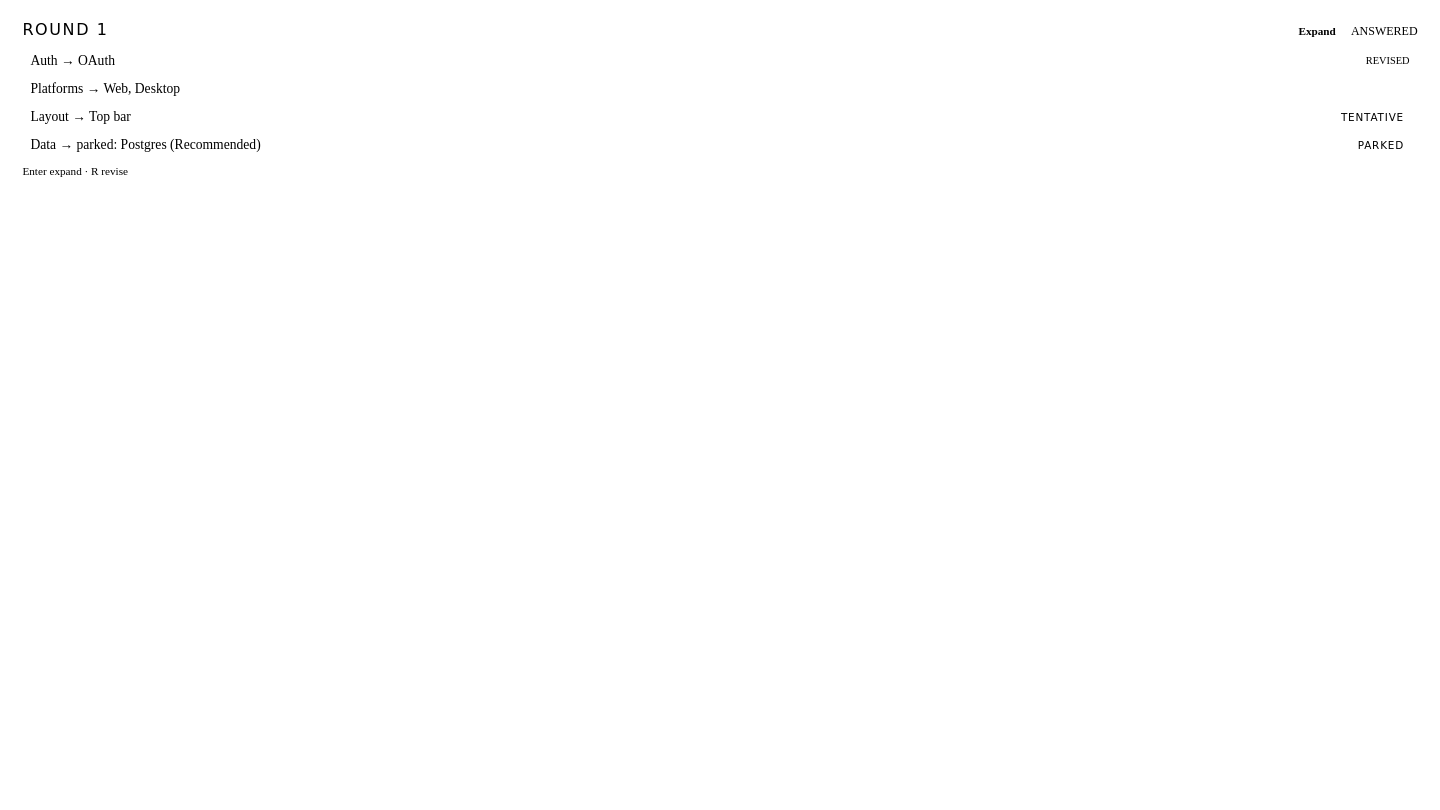
Test: QuestionRoundCard answer chips (D25) › clicking a chip expands the full card on that question, and R revises it
The width and height of the screenshot is (1440, 810).
Click the button "Layout → Top bar TENTATIVE". click: (50, 116)
box: [22,105,1418,129]
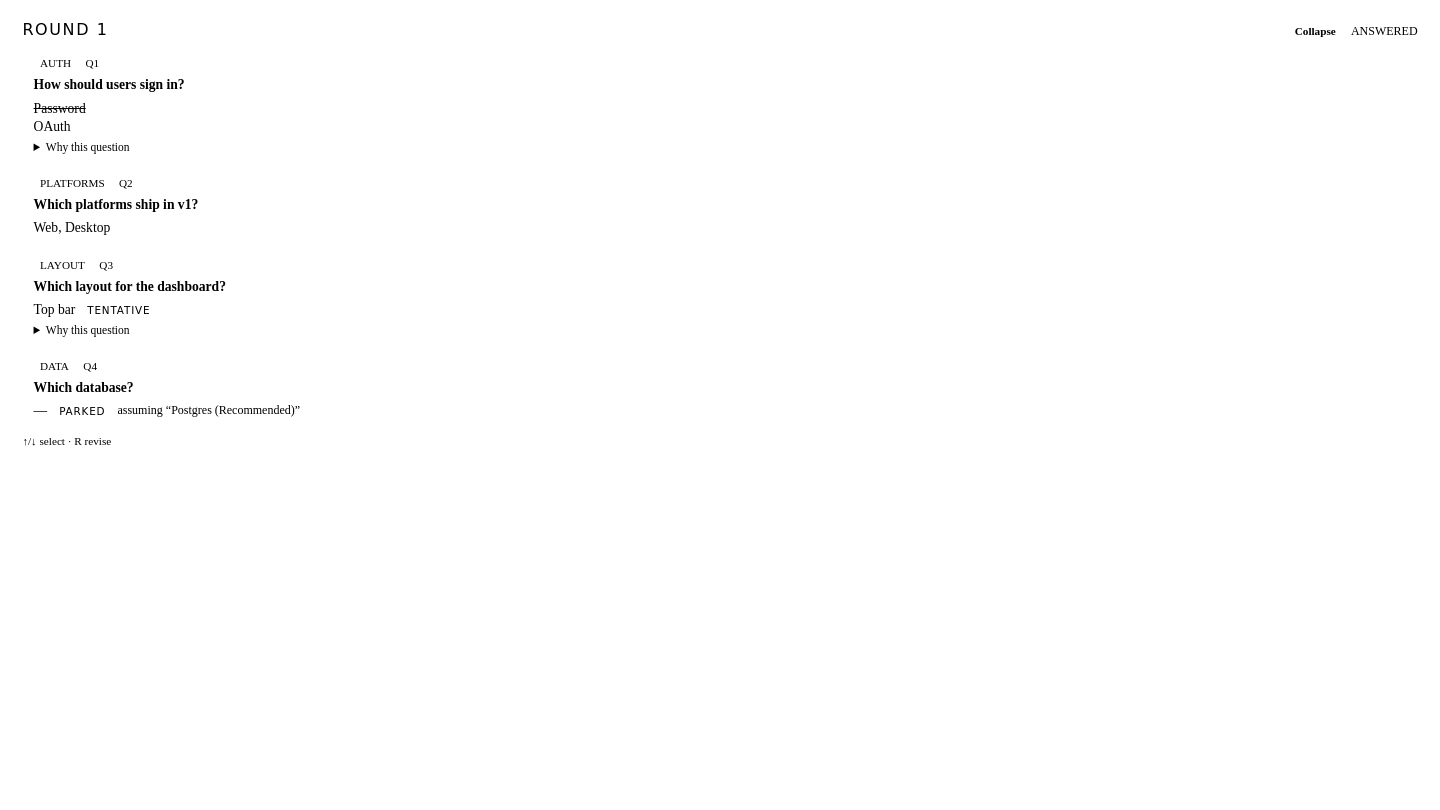
expect the text "↑/↓ select · R revise" is shown: met, box [22,435,111,447]
Press r in the list named "Answered round 1", box [34,57,300,418]
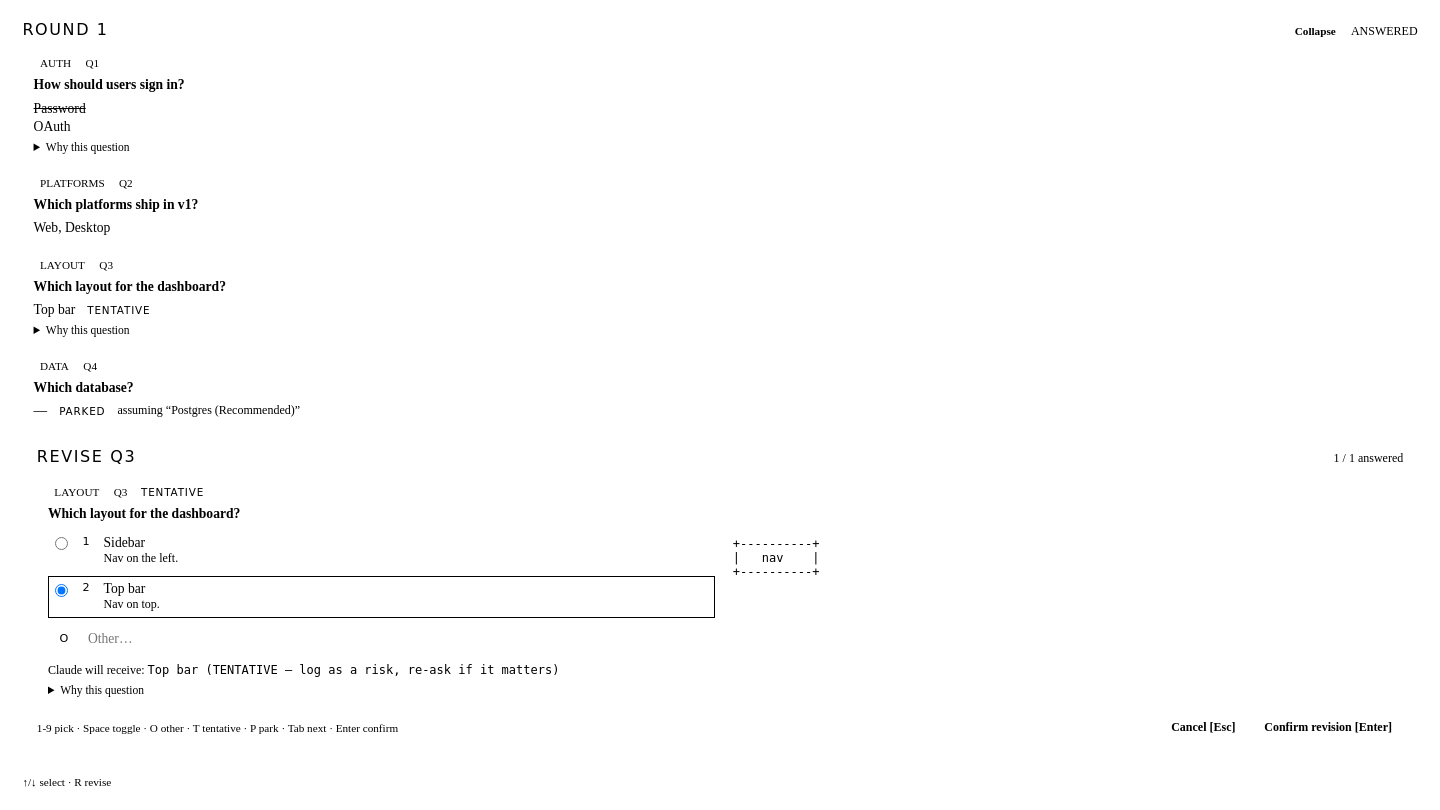
Press t in the form "REVISE Q3", box [22,435,1418,752]
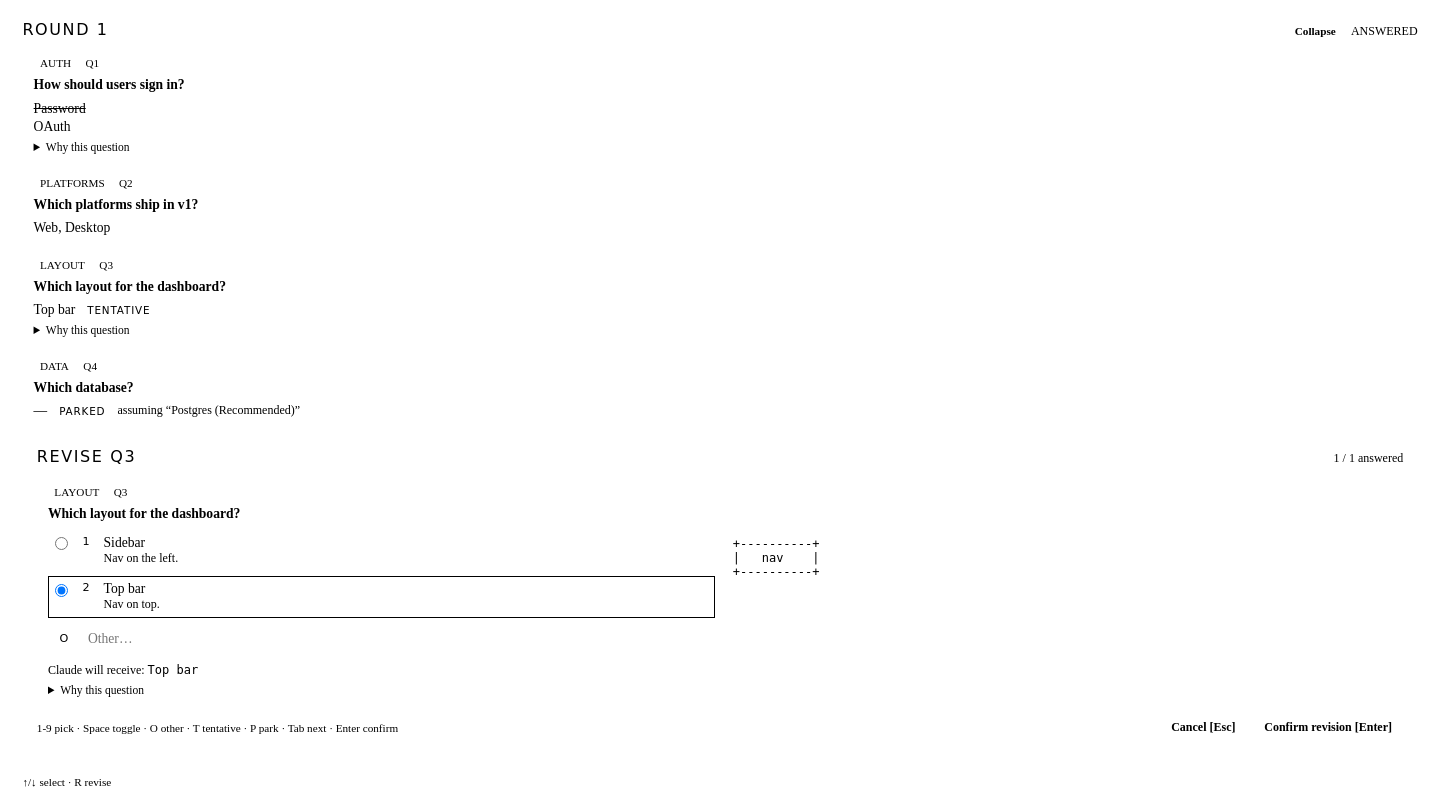
Press Enter in the form "REVISE Q3", box [22,435,1418,752]
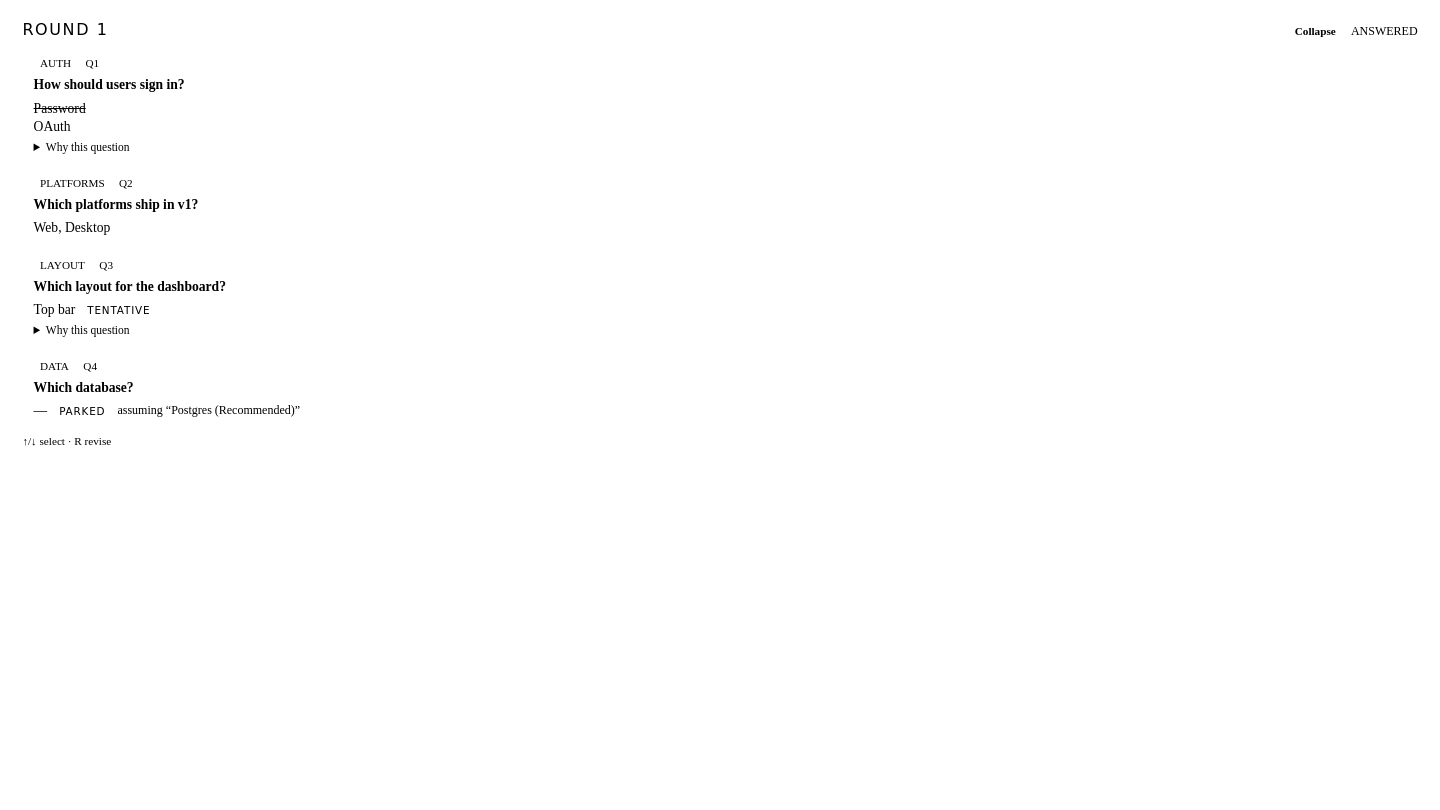
Click the button "Collapse". click: (1315, 31)
box: [1288,23,1343,39]
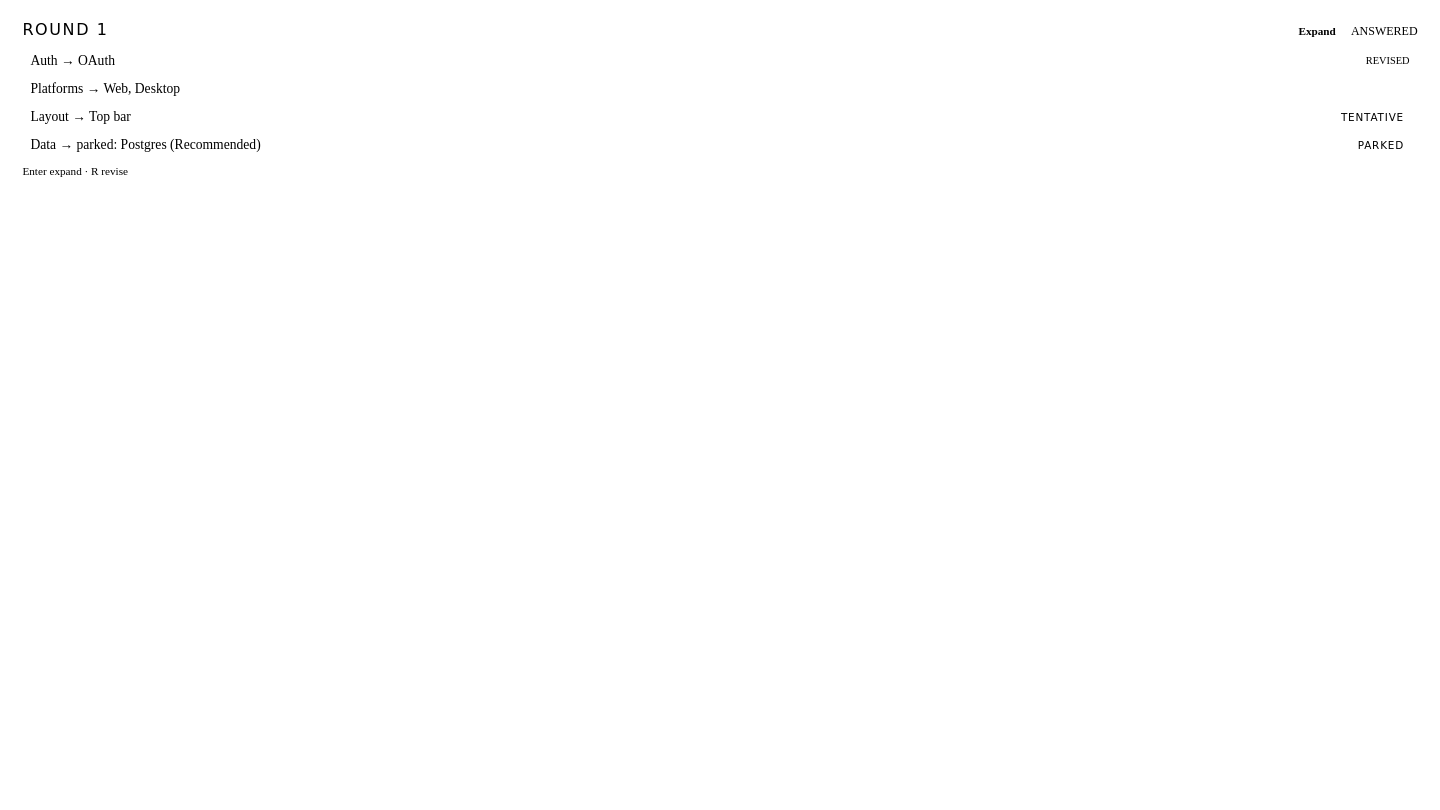
expect the list "Password OAuth" is gone: met
expect the number of list items is 4: met, box [22,49,1418,73]; [22,77,1418,101]; [22,105,1418,129]; [22,133,1418,157]
